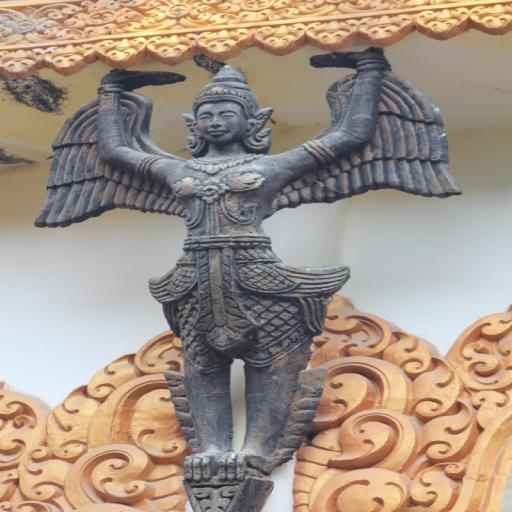than: (93, 68, 434, 483)
